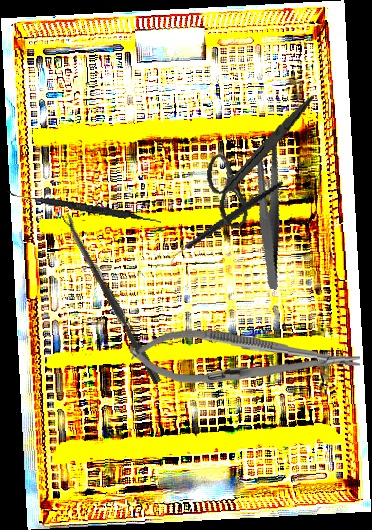Chopper: (155, 180, 297, 268)
Dressing Forceps: (228, 138, 310, 291)
Iris Scissors: (200, 82, 314, 237)
Needle Holder: (129, 327, 361, 390)
Spatula Surgical: (5, 190, 162, 225)
Surgical Spoon: (61, 212, 163, 385)
